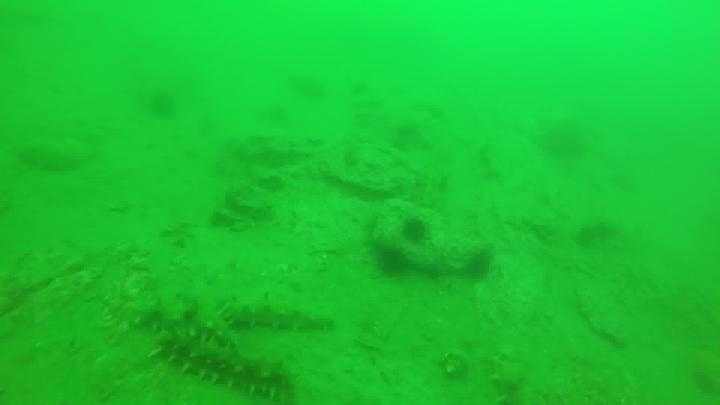echinus: (373, 243, 411, 279), (462, 247, 496, 283), (145, 88, 179, 121), (398, 215, 431, 246), (594, 218, 619, 251), (571, 225, 597, 246)
holothurian: (155, 332, 299, 400), (118, 294, 242, 350), (219, 294, 334, 335), (486, 349, 531, 405)
